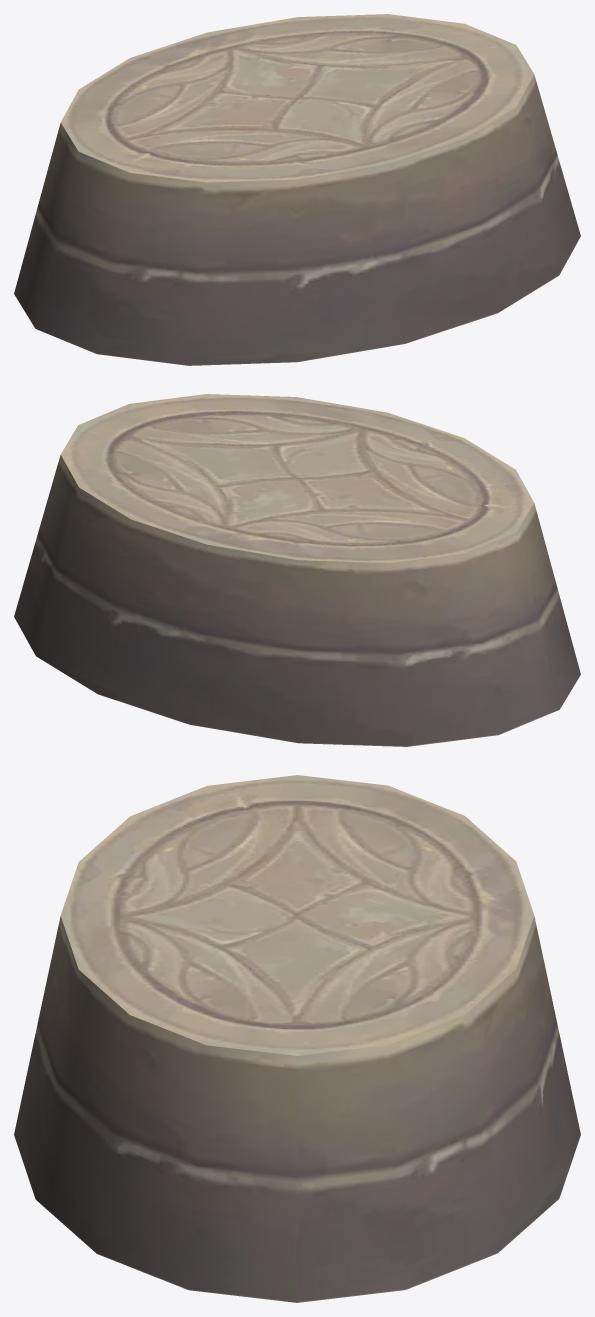
3 renders of one model, top to bottom at view 1: azimuth 30°, elevation 25°; view 2: azimuth 150°, elevation 25°; view 3: azimuth 270°, elevation 25°, orthographic. The views are drawn at different scales.
Bounding box in the file's own units: 1.82 × 0.5546 × 1.3.
1 material, 1 textured.
